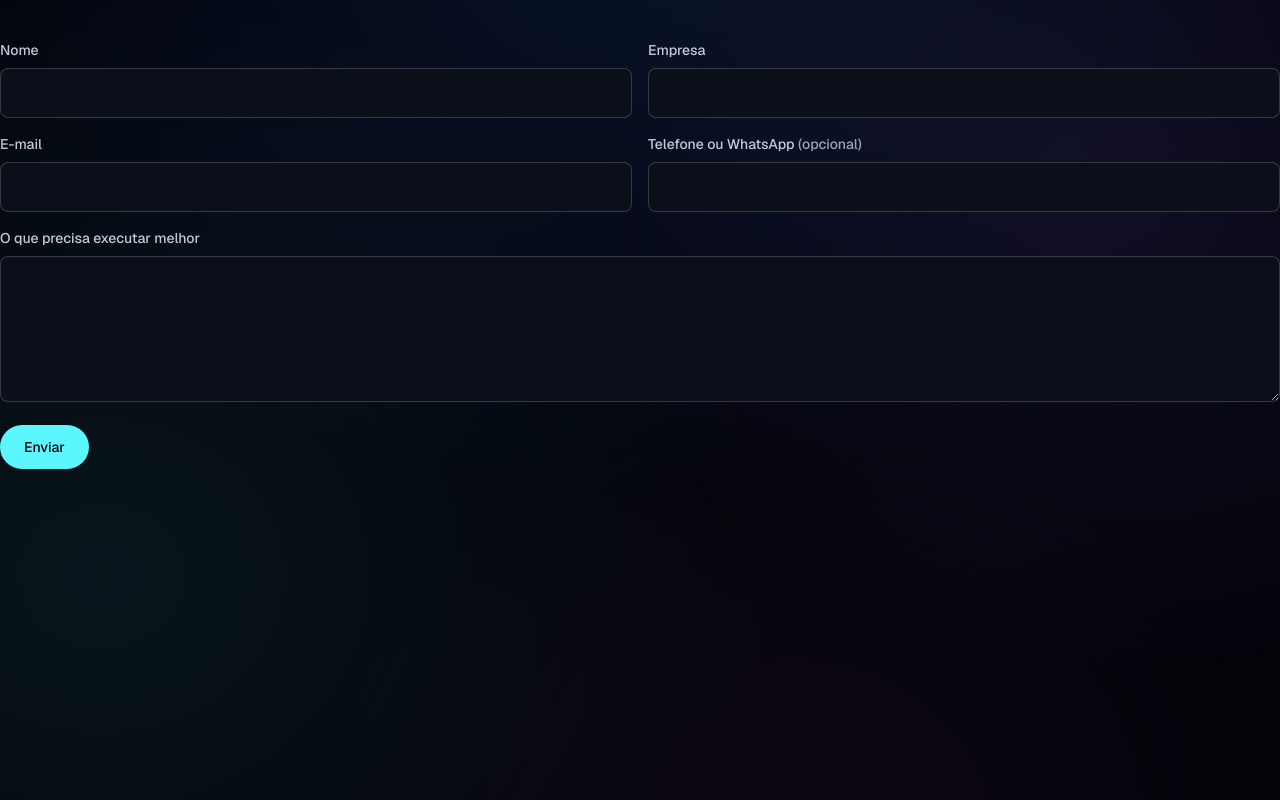
it: formulário de contato › mostra erro quando o envio falha
Type "Jonas" into the field labelled "Nome".
click(316, 93); type("Jonas")  # box [0,68,632,118]
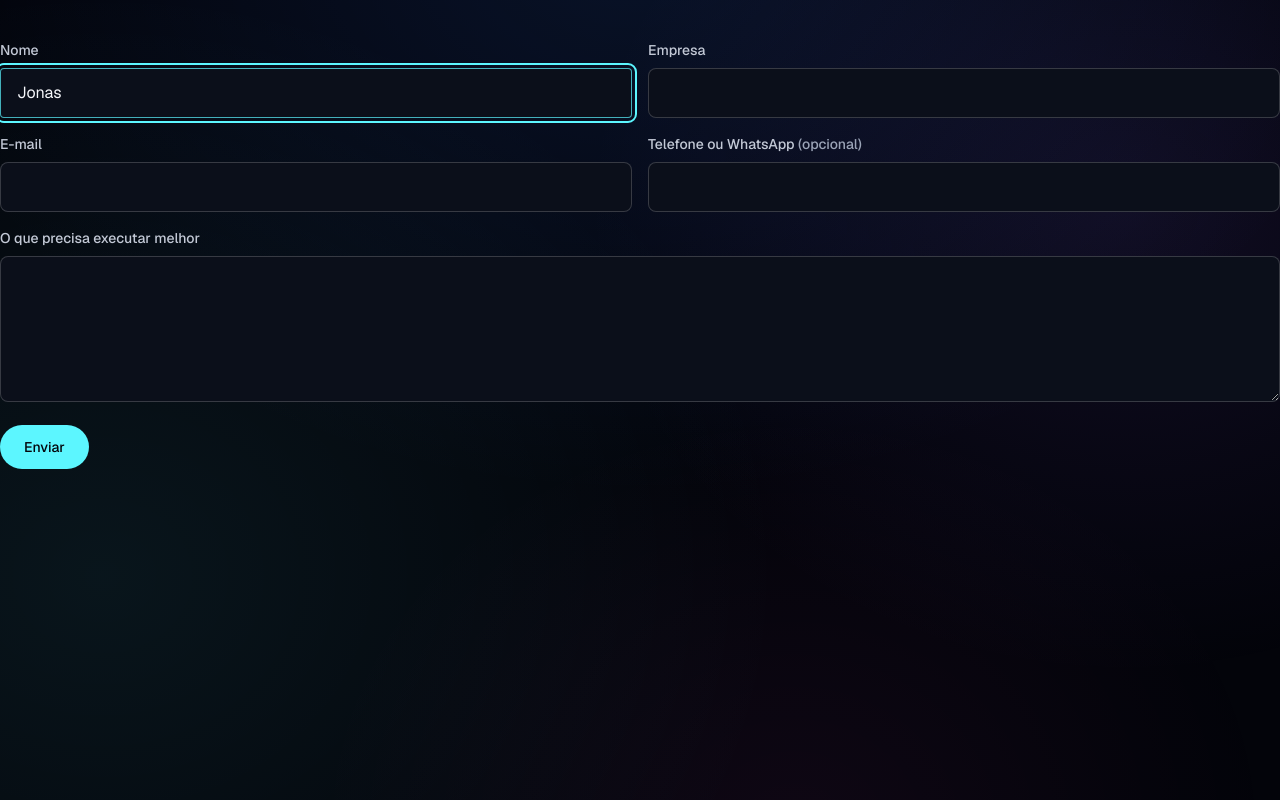
Type "Empresa" into the field labelled "Empresa".
click(964, 93); type("Empresa")  # box [648,68,1279,118]
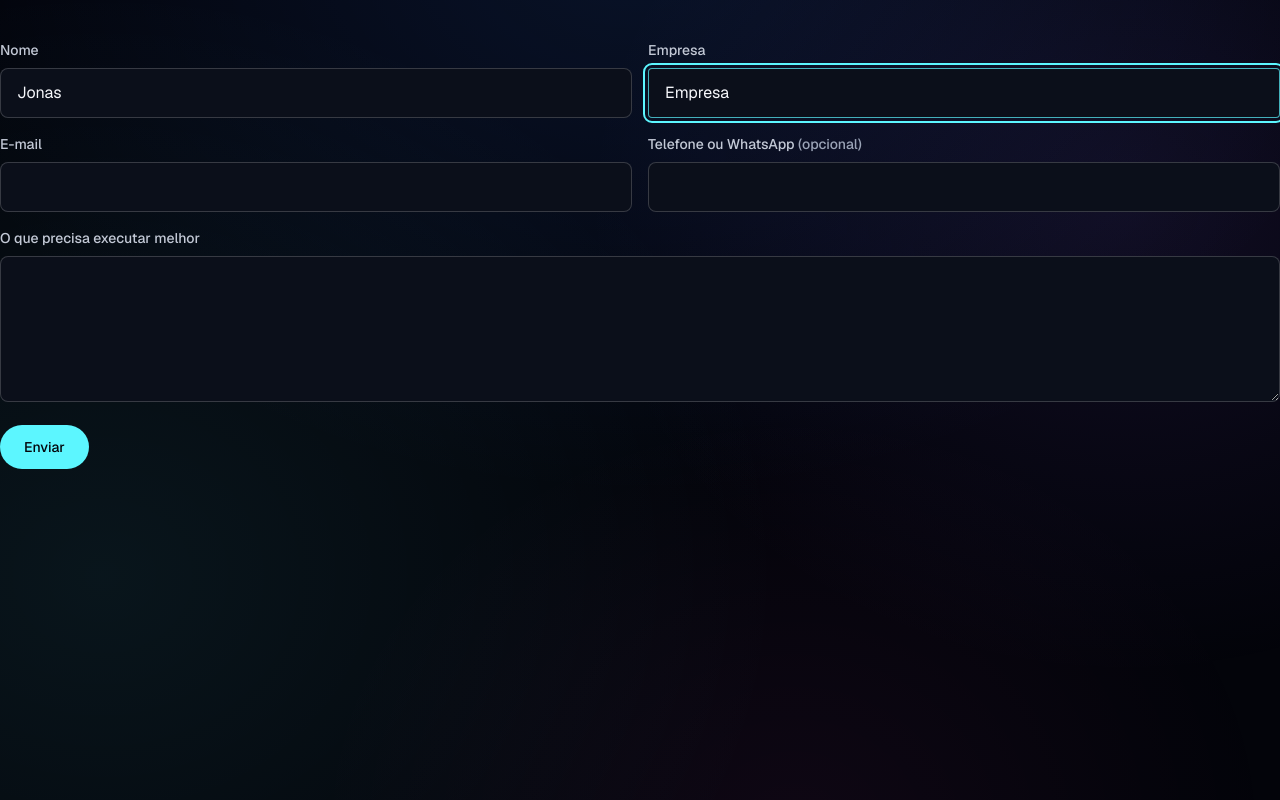
Type "jonas@empresa.test" into the field labelled "E-mail".
click(316, 187); type("jonas@empresa.test")  # box [0,162,632,212]
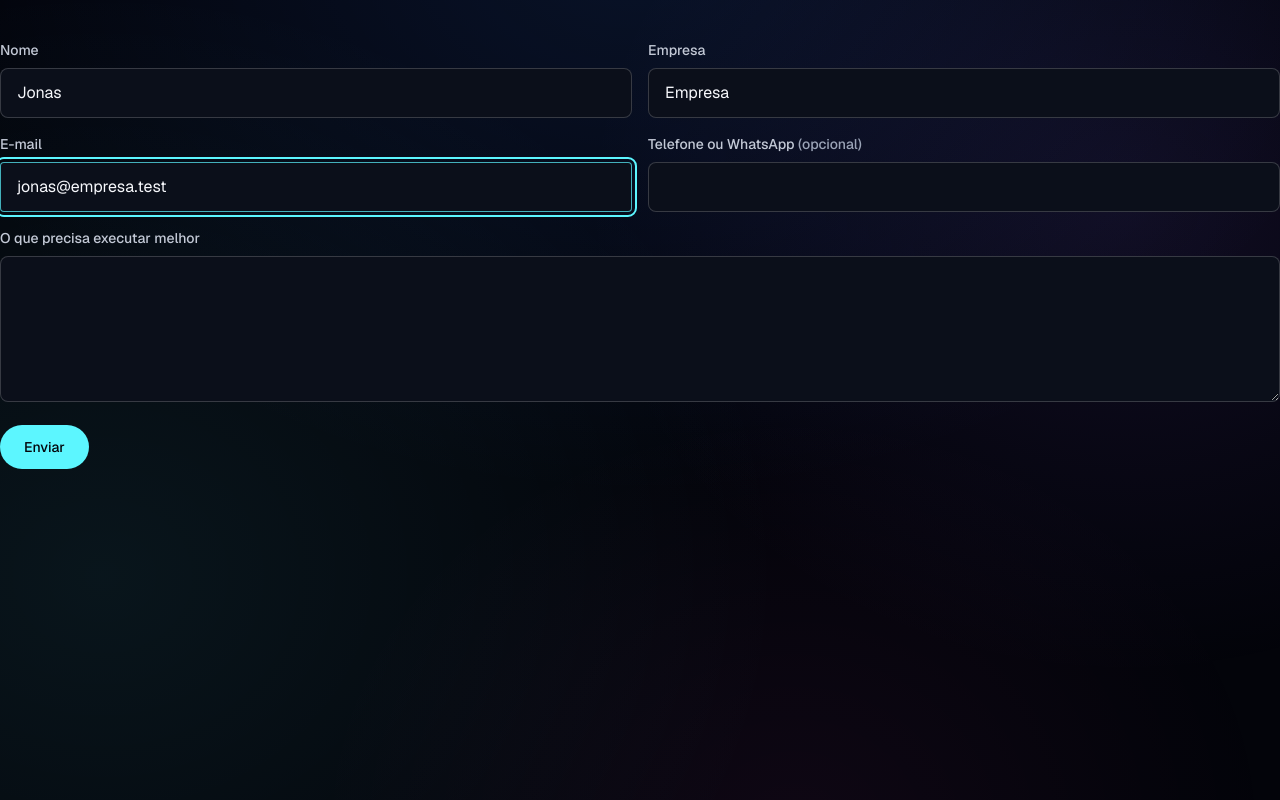
Type "Precisamos automatizar a triagem de atendimento no WhatsApp." into the text box labelled "O que precisa executar melhor".
click(640, 329); type("Precisamos automatizar a triagem de atendimento no WhatsApp.")  # box [0,256,1279,402]
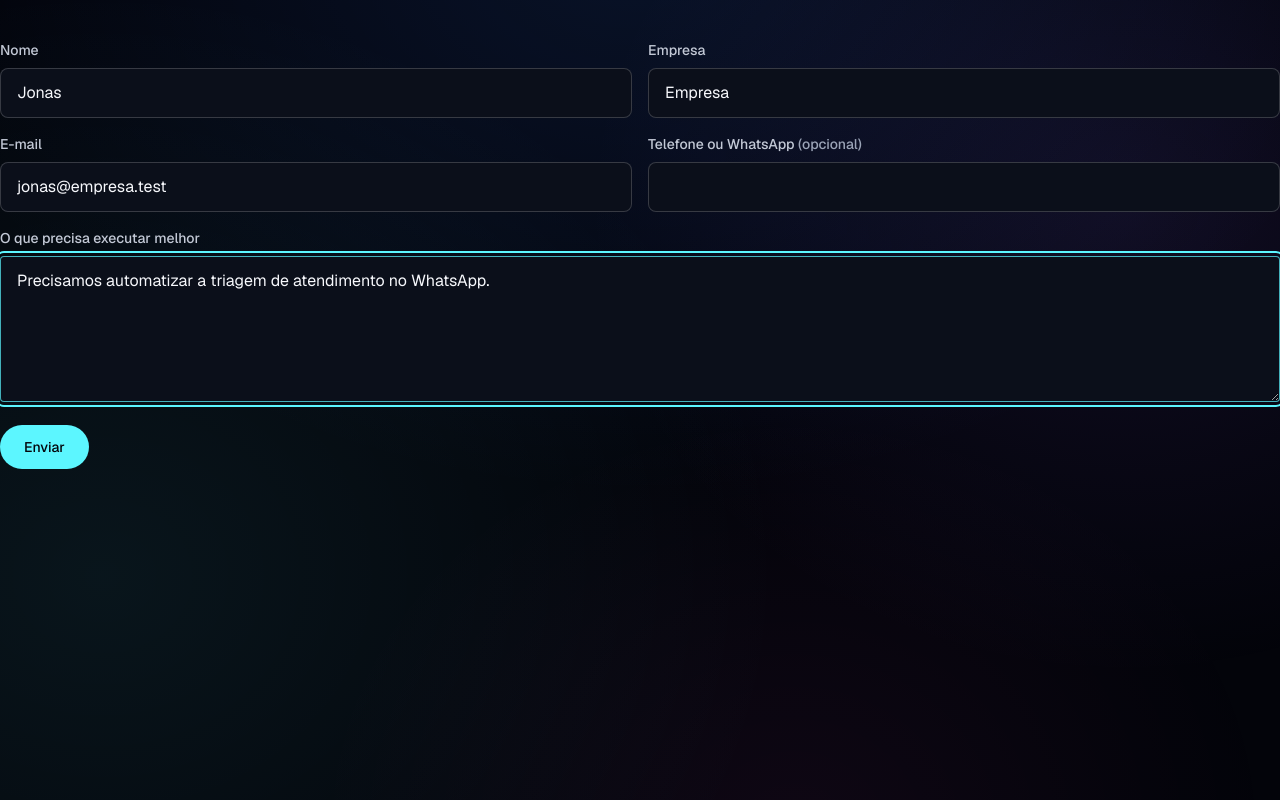
Click the button "Enviar".
click(44, 447)  # box [0,425,89,469]
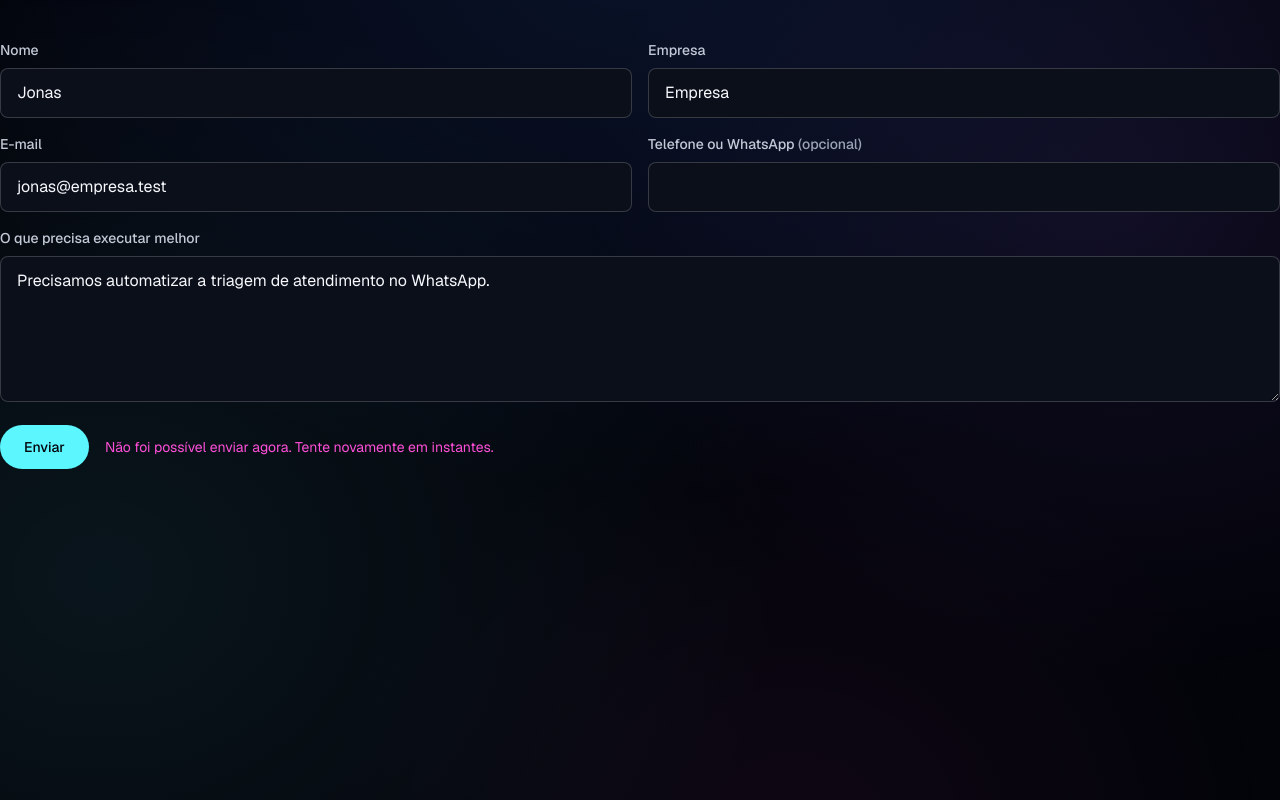
Expected: the text "Não foi possível enviar agora. Tente novamente em instantes." is shown, [105,437,494,457]
